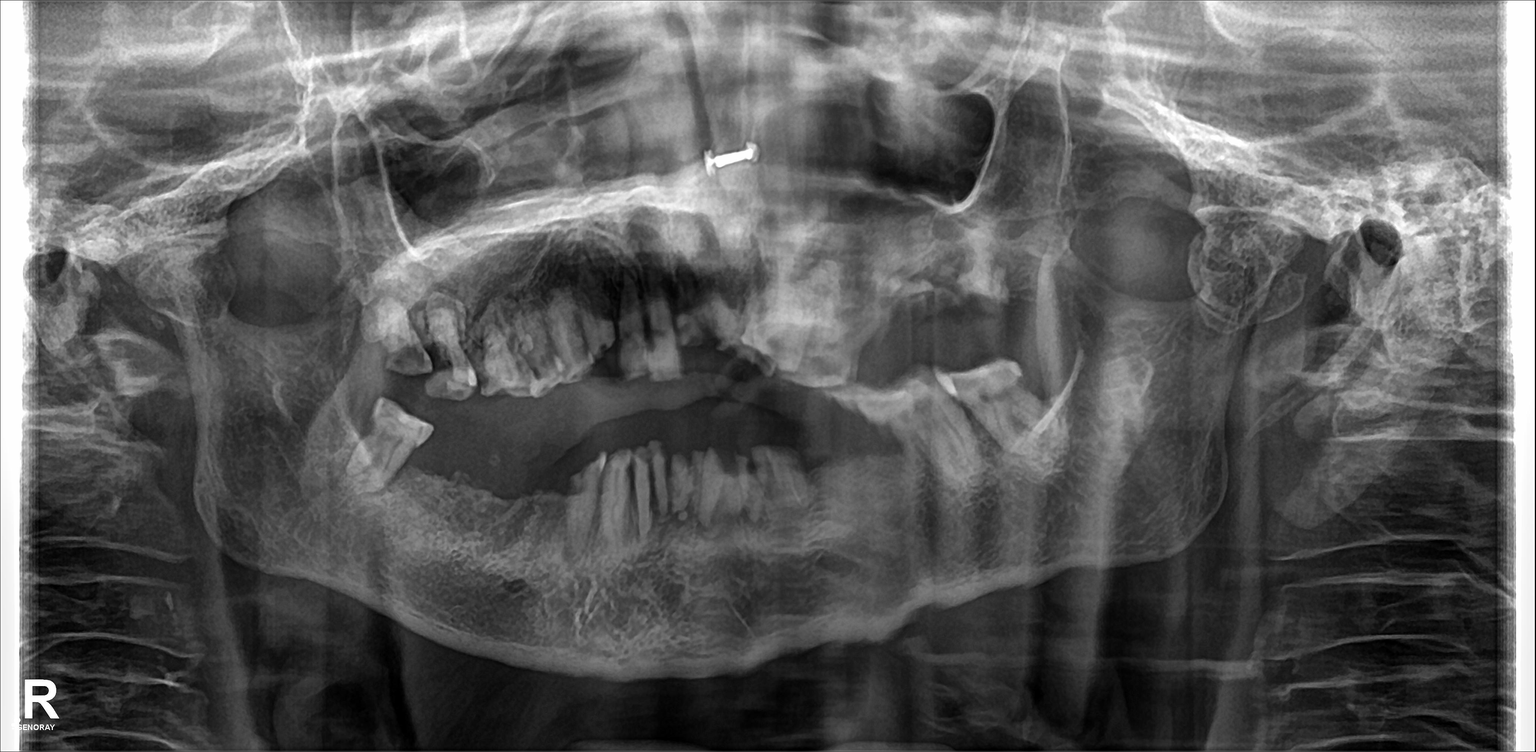Dental Caries: (421, 339, 457, 367)
Missing Tooth: (475, 441, 524, 560), (866, 443, 912, 544), (529, 445, 568, 554), (827, 441, 861, 551), (438, 432, 463, 521)
Periapical Lesion: (622, 449, 770, 536)
Retained Root: (775, 441, 824, 557), (953, 227, 1007, 332), (382, 303, 431, 386)
